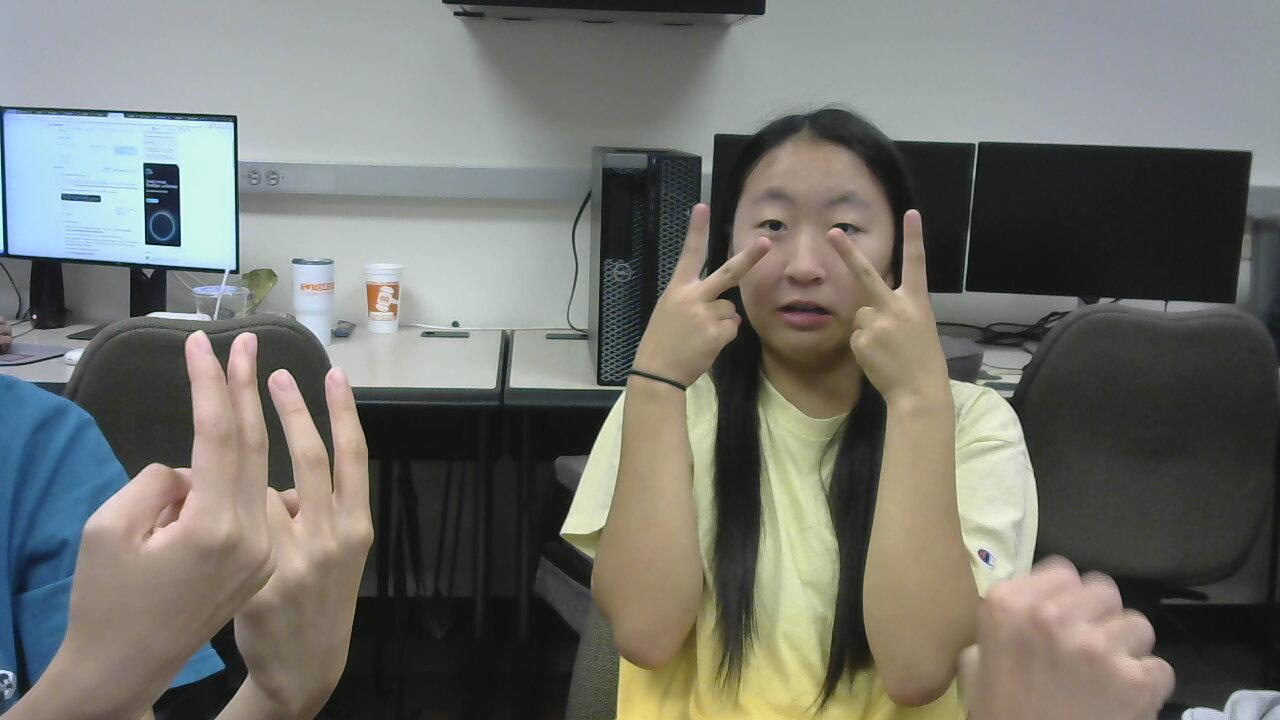fist: (961, 567, 1207, 720)
peace: (86, 323, 282, 667), (195, 363, 379, 720), (821, 213, 987, 415), (621, 193, 787, 377)
